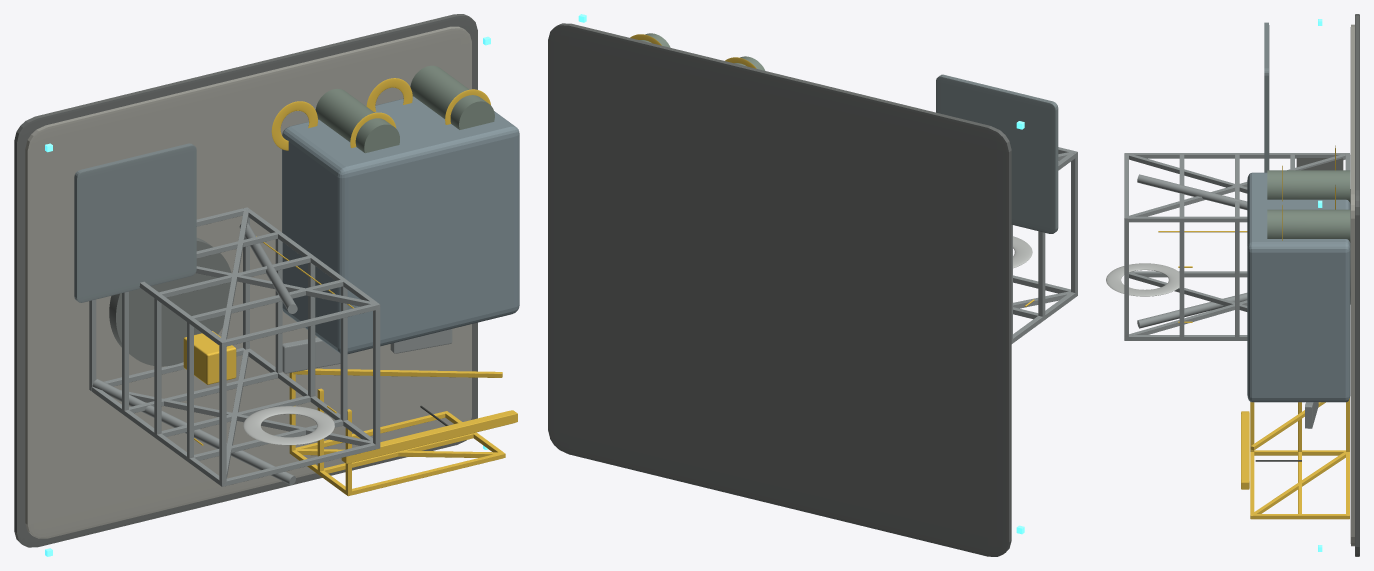
The model's file is b-51-ore-mine-lod2.glb.
3 views of the same model, side by side, from view 1: azimuth 30°, elevation 25°; view 2: azimuth 150°, elevation 25°; view 3: azimuth 270°, elevation 25° (orthographic). The views are drawn at different scales.
Visible parts, largest first — view 1: foundation_inner_pad, ore_processing_hall_main_hall, ore_winding_house_roof, foundation, ore_shaft_collar, concentrate_bin_3_vessel, concentrate_bin_1_vessel, ore_loading_gantry_bridge, headframe_hoist_wheel_-1, headframe_splay_-1_front, primary_ore_skip, crusher_conveyor_1 (+34 smaller); view 2: foundation, ore_winding_house_roof, primary_mine_headframe_beam_y_4_w, primary_mine_headframe_beam_y_3_w; view 3: ore_processing_hall_main_hall, foundation, foundation_inner_pad, concentrate_bin_3_vessel, concentrate_bin_1_vessel, headframe_hoist_wheel_-1, primary_mine_headframe_column_w_n, headframe_splay_1_rear, ore_winding_house_roof, primary_mine_headframe_brace_a_2.6, headframe_splay_-1_front, primary_mine_headframe_column_e_n (+17 smaller).
Boxes of the visible parts, bbox=[...] form: foundation_inner_pad: bbox=[25, 26, 471, 538]; ore_processing_hall_main_hall: bbox=[282, 96, 519, 353]; ore_winding_house_roof: bbox=[74, 143, 196, 302]; foundation: bbox=[14, 14, 477, 547]; ore_shaft_collar: bbox=[109, 237, 231, 366]; concentrate_bin_3_vessel: bbox=[410, 65, 494, 129]; concentrate_bin_1_vessel: bbox=[315, 88, 399, 153]; ore_loading_gantry_bridge: bbox=[341, 410, 517, 463]; headframe_hoist_wheel_-1: bbox=[243, 406, 334, 445]; headframe_splay_-1_front: bbox=[92, 379, 295, 485]; primary_ore_skip: bbox=[183, 331, 236, 384]; crusher_conveyor_1: bbox=[282, 337, 340, 373]; foundation: bbox=[548, 23, 1011, 556]; ore_winding_house_roof: bbox=[936, 74, 1058, 233]; primary_mine_headframe_beam_y_4_w: bbox=[1071, 150, 1077, 292]; primary_mine_headframe_beam_y_3_w: bbox=[1038, 231, 1045, 316]; ore_processing_hall_main_hall: bbox=[1247, 172, 1350, 402]; foundation: bbox=[1355, 14, 1359, 556]; foundation_inner_pad: bbox=[1350, 24, 1354, 546]; concentrate_bin_3_vessel: bbox=[1267, 209, 1350, 242]; concentrate_bin_1_vessel: bbox=[1267, 170, 1350, 203]; headframe_hoist_wheel_-1: bbox=[1106, 263, 1179, 296]; primary_mine_headframe_column_w_n: bbox=[1128, 153, 1345, 158]; headframe_splay_1_rear: bbox=[1137, 174, 1247, 209]; ore_winding_house_roof: bbox=[1264, 22, 1269, 172]; primary_mine_headframe_brace_a_2.6: bbox=[1128, 154, 1345, 216]; headframe_splay_-1_front: bbox=[1137, 293, 1247, 328]; primary_mine_headframe_column_e_n: bbox=[1128, 216, 1247, 222].
Size of what is drawn, in the model's own units: 18 by 16 by 10.1.
